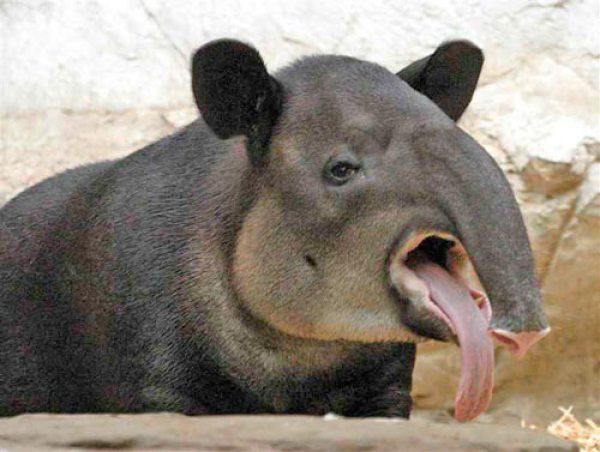Anta: (14, 26, 556, 422)
